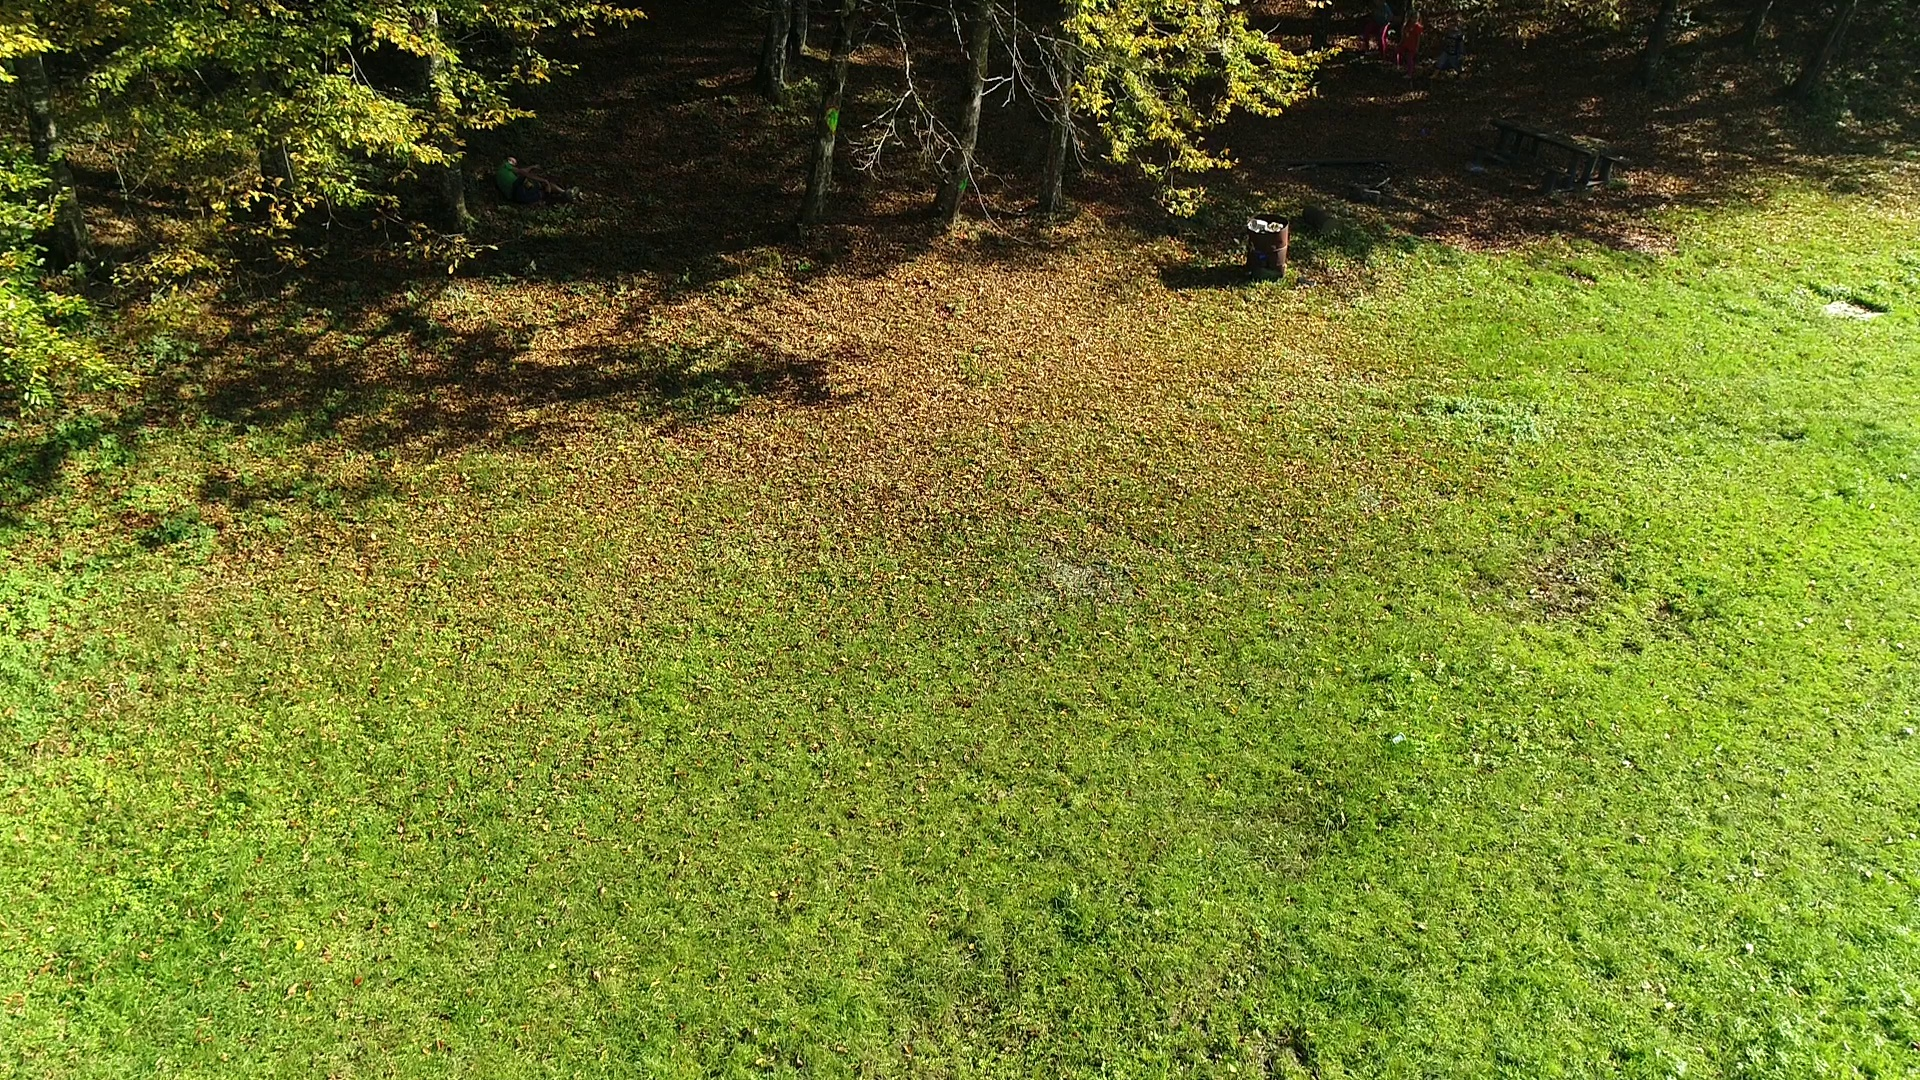person: (496, 155, 583, 201), (1427, 1, 1474, 83), (1394, 10, 1426, 80), (1375, 1, 1394, 66)
